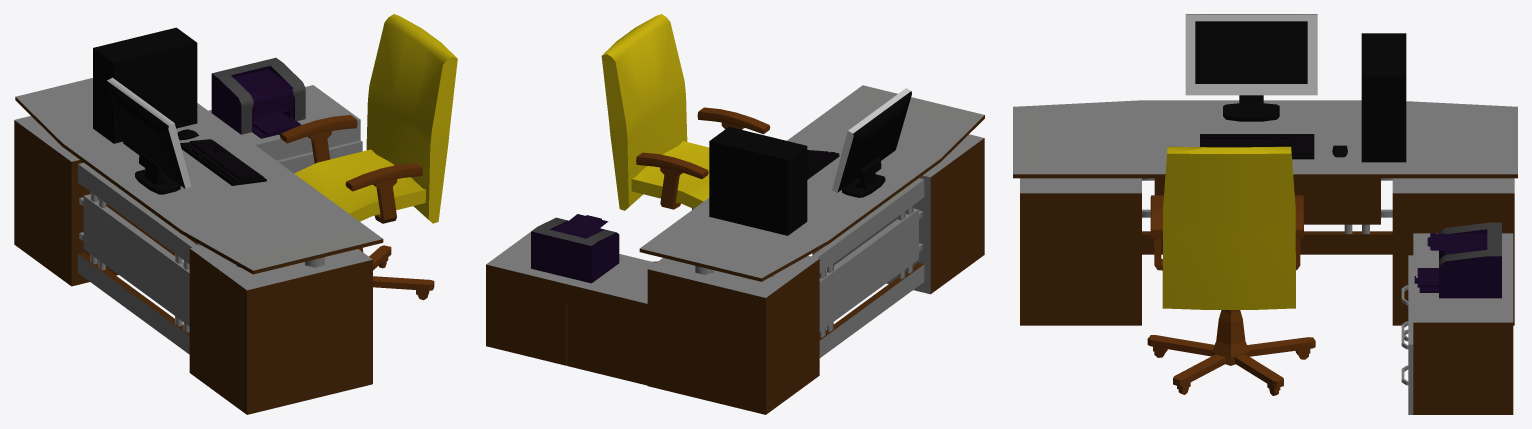
The model's file is office_table_-_table__chair.glb.
The picture shows the model from 3 angles, left to right: view 1: azimuth 30°, elevation 25°; view 2: azimuth 150°, elevation 25°; view 3: azimuth 270°, elevation 25°; orthographic projection. The views are drawn at different scales.
Parts seen in each view (by area): view 1: MaterialFBXASC032FBXASC0353.017, MaterialFBXASC032FBXASC03538.003, MaterialFBXASC032FBXASC0354_ncl1_1.002, MaterialFBXASC032FBXASC0352, MaterialFBXASC032FBXASC0354, MaterialFBXASC032FBXASC0354_ncl1_1.001; view 2: MaterialFBXASC032FBXASC0353.017, MaterialFBXASC032FBXASC03538.003, MaterialFBXASC032FBXASC0354_ncl1_1.002, MaterialFBXASC032FBXASC0352, MaterialFBXASC032FBXASC0354, MaterialFBXASC032FBXASC0354_ncl1_1.001; view 3: MaterialFBXASC032FBXASC0353.017, MaterialFBXASC032FBXASC03538.003, MaterialFBXASC032FBXASC0354, MaterialFBXASC032FBXASC0354_ncl1_1.002, MaterialFBXASC032FBXASC0352, MaterialFBXASC032FBXASC0354_ncl1_1.001.
Part boxes in pixels (x1,y1,x2,y2): MaterialFBXASC032FBXASC0353.017: (14,78,383,414); MaterialFBXASC032FBXASC03538.003: (280,14,457,300); MaterialFBXASC032FBXASC0354_ncl1_1.002: (93,27,197,143); MaterialFBXASC032FBXASC0352: (211,57,305,138); MaterialFBXASC032FBXASC0354: (106,77,191,194); MaterialFBXASC032FBXASC0354_ncl1_1.001: (180,139,266,185); MaterialFBXASC032FBXASC0353.017: (486,85,984,414); MaterialFBXASC032FBXASC03538.003: (601,14,770,262); MaterialFBXASC032FBXASC0354_ncl1_1.002: (709,127,807,235); MaterialFBXASC032FBXASC0352: (531,214,619,283); MaterialFBXASC032FBXASC0354: (832,88,911,197); MaterialFBXASC032FBXASC0354_ncl1_1.001: (807,150,839,179); MaterialFBXASC032FBXASC0353.017: (1013,100,1517,414); MaterialFBXASC032FBXASC03538.003: (1147,146,1315,395); MaterialFBXASC032FBXASC0354: (1185,14,1317,121); MaterialFBXASC032FBXASC0354_ncl1_1.002: (1361,33,1406,162); MaterialFBXASC032FBXASC0352: (1414,222,1501,298); MaterialFBXASC032FBXASC0354_ncl1_1.001: (1200,134,1314,159).
Bounding box in the file's own units: 2.25 × 1.71 × 3.01.
1 material, 1 textured.
